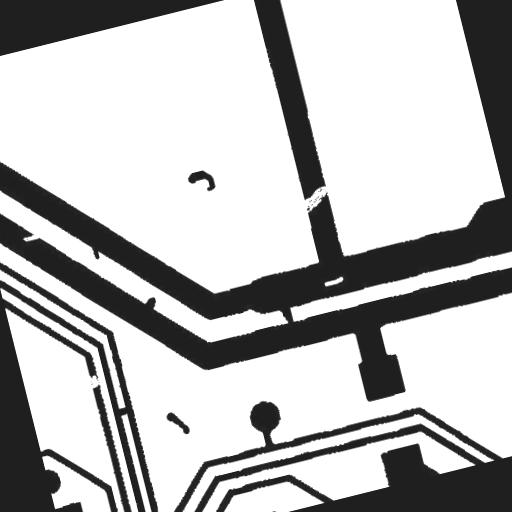copper: (178, 158, 226, 204), (156, 400, 199, 446)
mousebite: (13, 223, 49, 251)
open: (284, 176, 342, 227), (74, 360, 108, 398)
pin-hole: (314, 266, 353, 296)
short: (270, 296, 304, 336), (106, 397, 140, 426)
spur: (132, 288, 167, 320), (82, 236, 109, 269)
